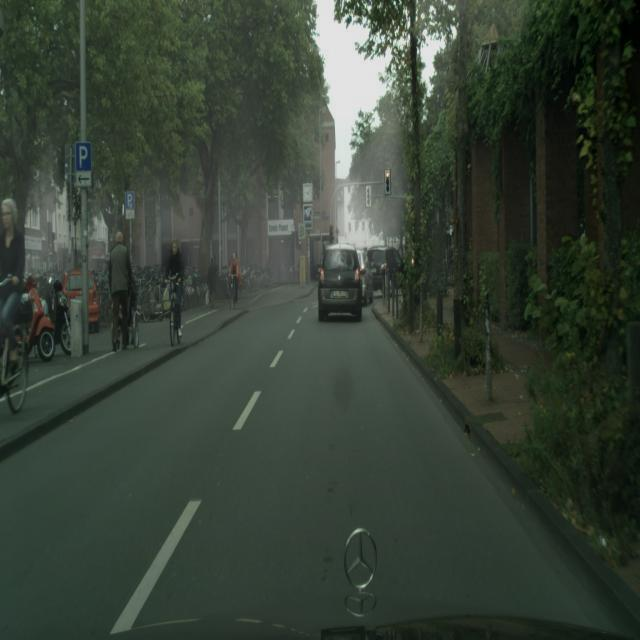bus: (22, 275, 55, 362), (52, 278, 72, 355)
car: (0, 316, 29, 414), (166, 276, 182, 345), (229, 272, 238, 309)
person: (0, 196, 25, 371), (109, 229, 136, 351), (165, 238, 184, 338), (228, 251, 241, 304), (208, 254, 218, 306)
truck: (318, 242, 363, 321), (60, 268, 100, 332), (366, 246, 405, 296), (358, 251, 373, 304)
